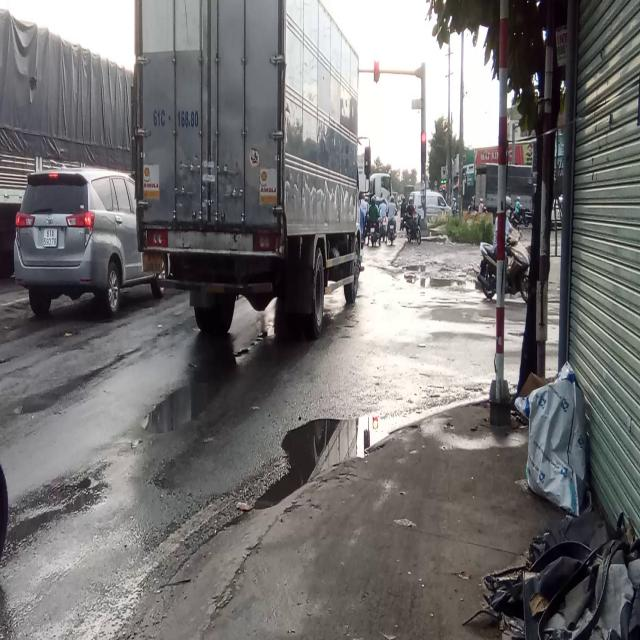bien_trang: (42, 229, 61, 250)
